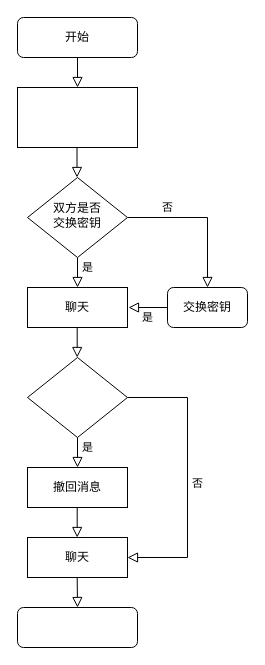
Some shapes in this 265 by 665 pixel diagram are drawn without their labels. The centre of each missing label's shape, as x and y in pixels:
a，b使用各自用户名a，b访问聊天界面: (x=77, y=117)
是否想 撤回消息: (x=77, y=397)
结束: (x=77, y=627)
